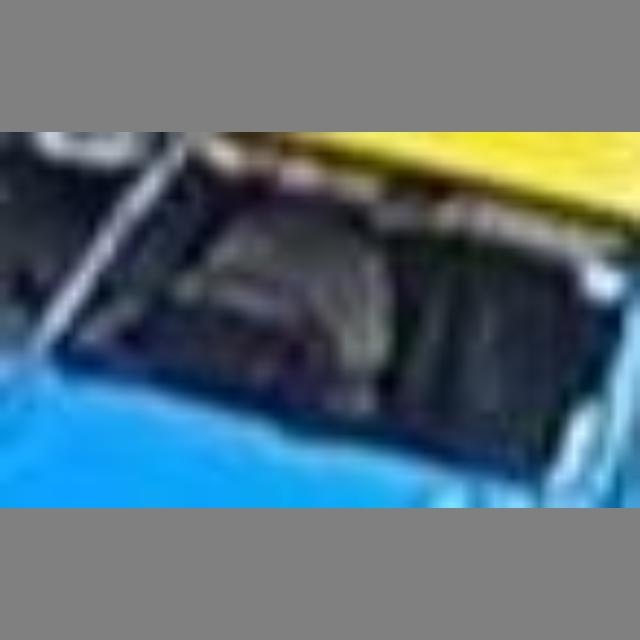tidak-pakai: (175, 176, 412, 439)
